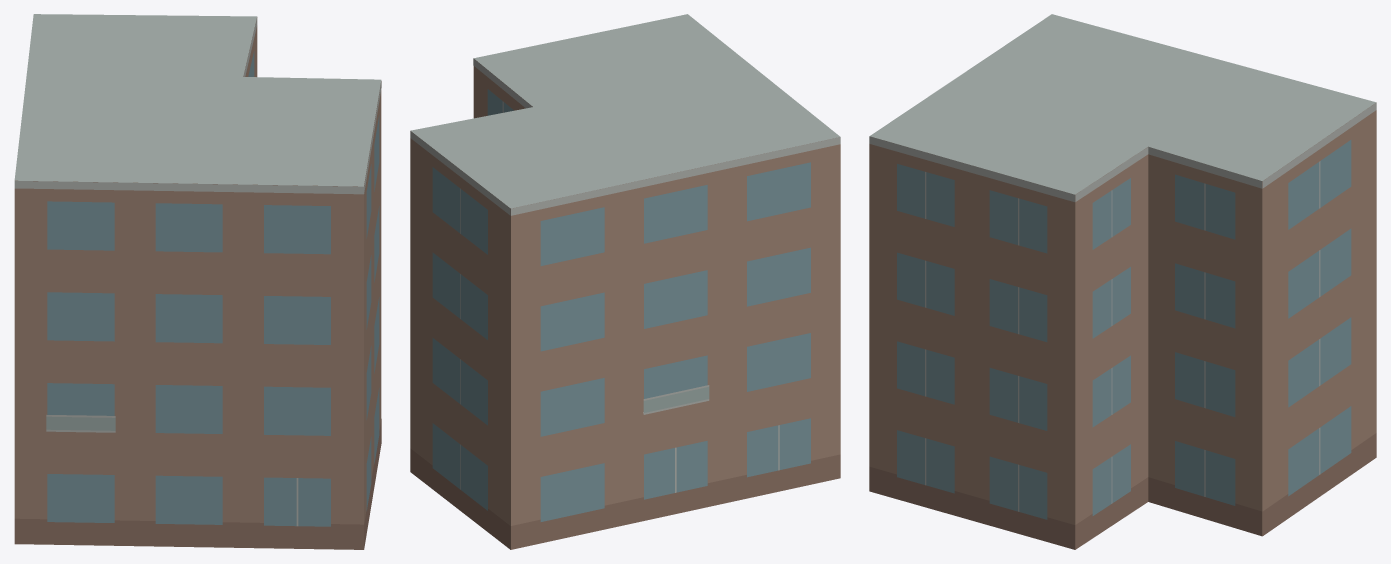
Rendered from survey-upis-32677622.glb.
3 renders of one model, left to right at view 1: azimuth 30°, elevation 25°; view 2: azimuth 150°, elevation 25°; view 3: azimuth 270°, elevation 25°, orthographic. The views are drawn at different scales.
Parts seen in each view (by area): view 1: survey-upis-32677622.tmp; view 2: survey-upis-32677622.tmp; view 3: survey-upis-32677622.tmp.
Boxes of the visible parts, x1,y1,x2,y2 form: survey-upis-32677622.tmp: (14,14,381,549); survey-upis-32677622.tmp: (410,14,840,549); survey-upis-32677622.tmp: (869,14,1376,549).
Size of the model in its own units: 12.45 by 11.4 by 14.76.
